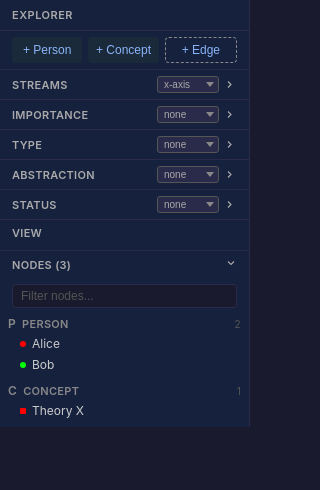
Sidebar › expands classifier section on click and shows items
This screenshot has width=320, height=490.
Click the text "Streams" at [40, 84], box [12,78,68,92]
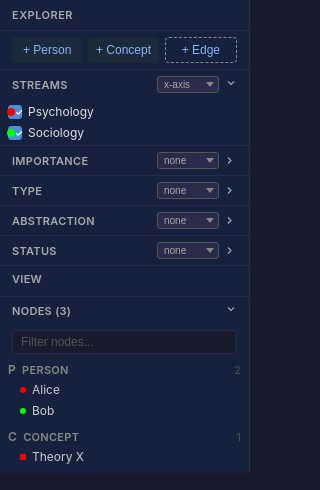
expect the text "Psychology" is shown: met, box [28,104,94,119]
expect the text "Sociology" is shown: met, box [28,125,84,140]
